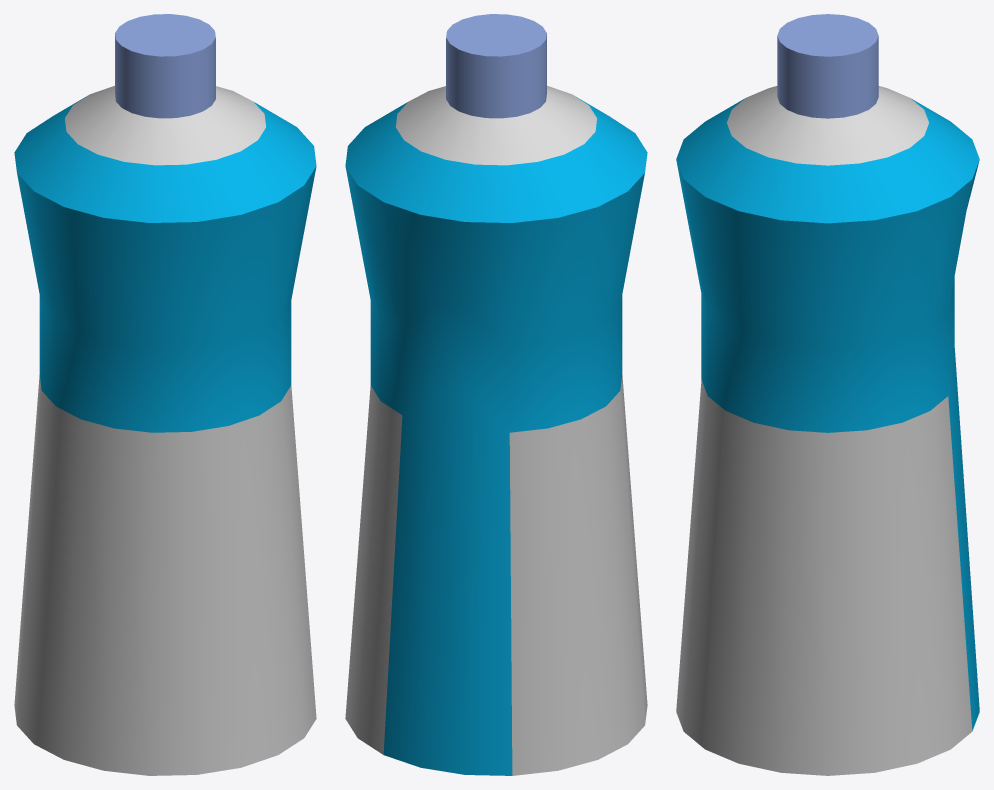
The model's file is Bottle.fbx.
3 renders of one model, left to right at view 1: azimuth 30°, elevation 25°; view 2: azimuth 150°, elevation 25°; view 3: azimuth 270°, elevation 25°, orthographic.
Parts seen in each view (by area): view 1: bottle1; view 2: bottle1; view 3: bottle1.
Boxes of the visible parts, box(x1,y1,x2,y2) form: bottle1: box(14, 14, 316, 775); bottle1: box(345, 14, 647, 775); bottle1: box(676, 14, 979, 775).
Bounding box in the file's own units: 0.2709 × 0.6658 × 0.2709.
